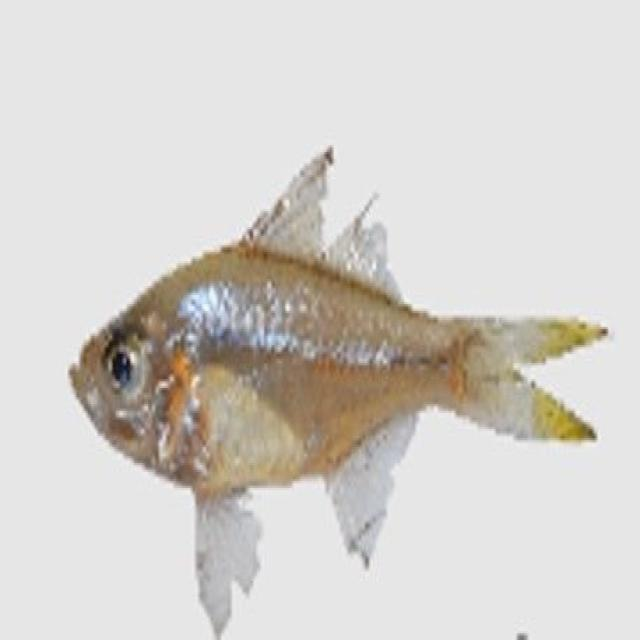Glass-Perchlet: (47, 84, 613, 600)
